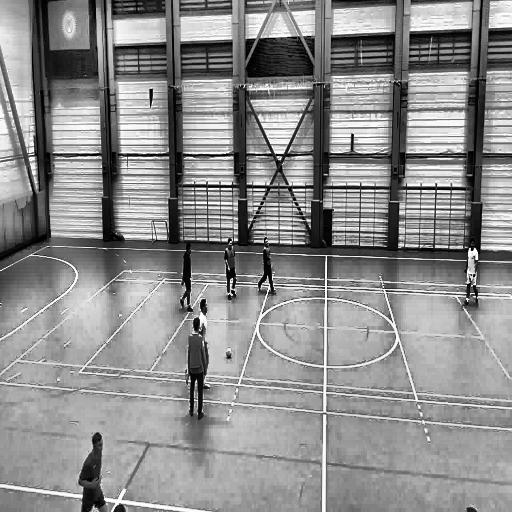ball: (224, 343, 234, 363)
player: (78, 432, 108, 512), (185, 317, 207, 422), (257, 235, 277, 298), (463, 236, 480, 310), (198, 297, 211, 390), (179, 238, 194, 313), (224, 237, 238, 302)
